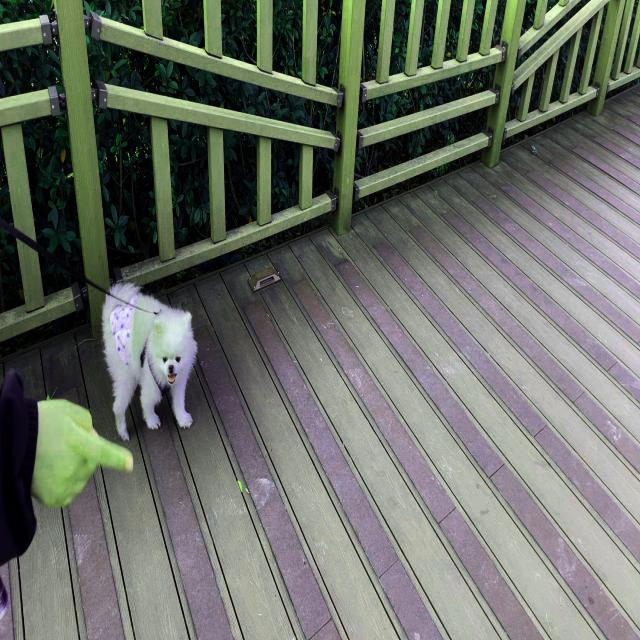Dog: (101, 282, 197, 442)
